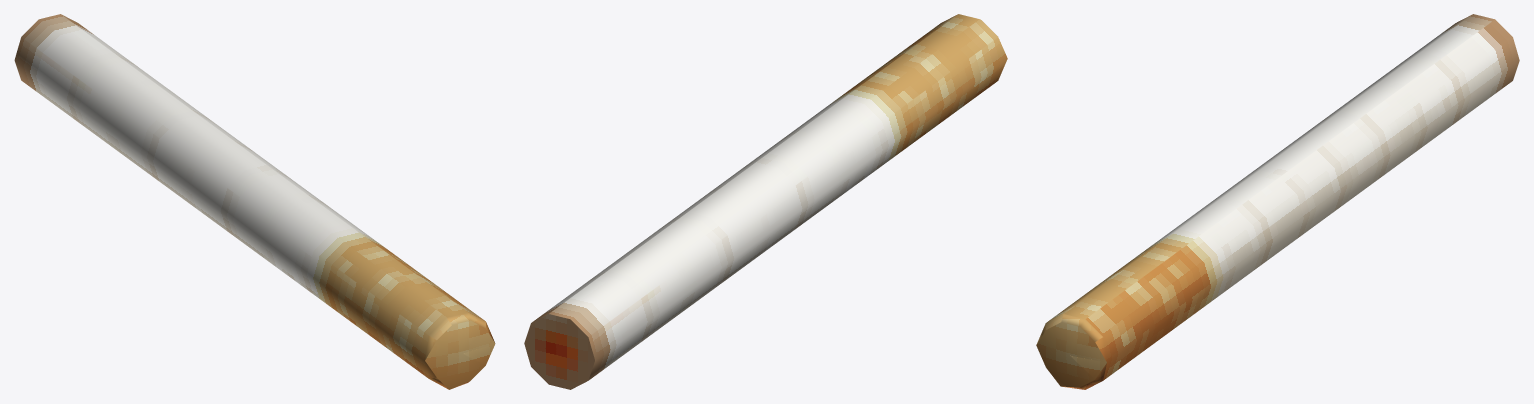
File: cig_own.glb
3 views of the same model, side by side, from view 1: azimuth 30°, elevation 25°; view 2: azimuth 150°, elevation 25°; view 3: azimuth 330°, elevation 25° (orthographic).
Visible parts, largest first — view 1: mesh; view 2: mesh; view 3: mesh.
Boxes of the visible parts, x1=… form: mesh: x1=14, y1=14, x2=495, y2=389; mesh: x1=524, y1=14, x2=1007, y2=389; mesh: x1=1036, y1=14, x2=1519, y2=389.
Size of the model in its own units: 0.00883 by 0.0084 by 0.0894.
Materials: 1 (1 with a texture image).
